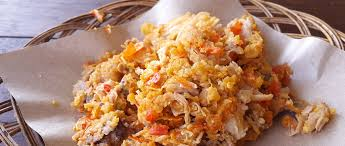ayam_geprek: (73, 16, 314, 146)
